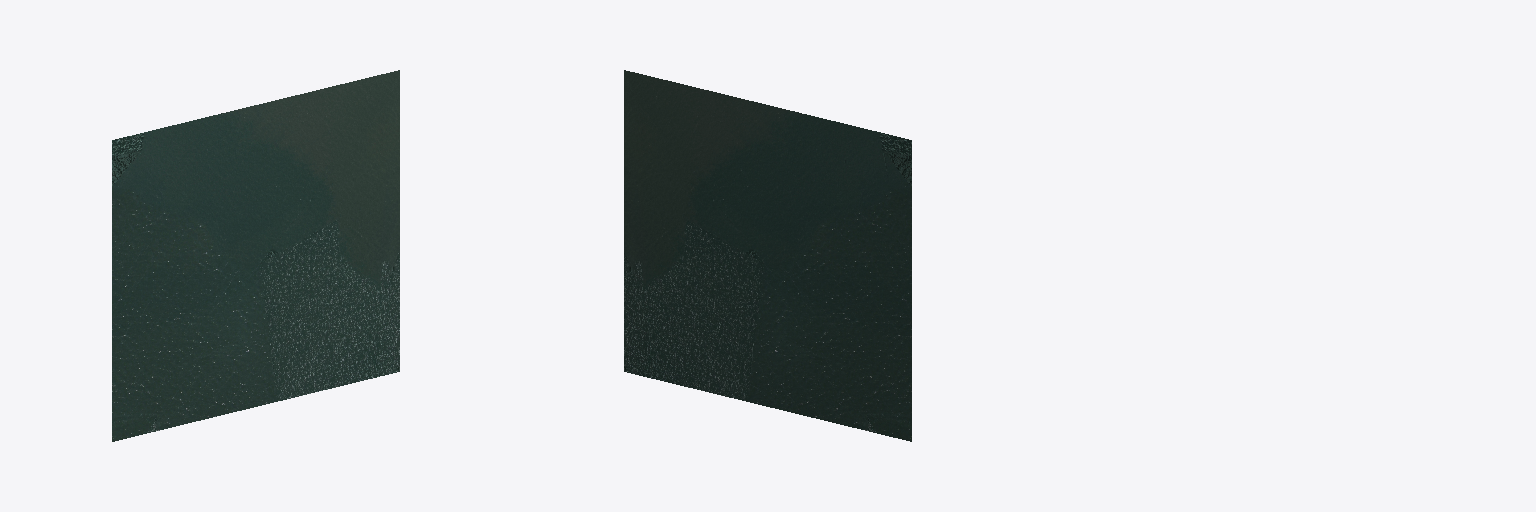
The picture shows the model from 3 angles: view 1: azimuth 30°, elevation 25°; view 2: azimuth 150°, elevation 25°; view 3: azimuth 270°, elevation 25°; orthographic projection.
Size of the model in its own units: 252 by 252 by 0.4829.
Materials: 2 (1 with a texture image).